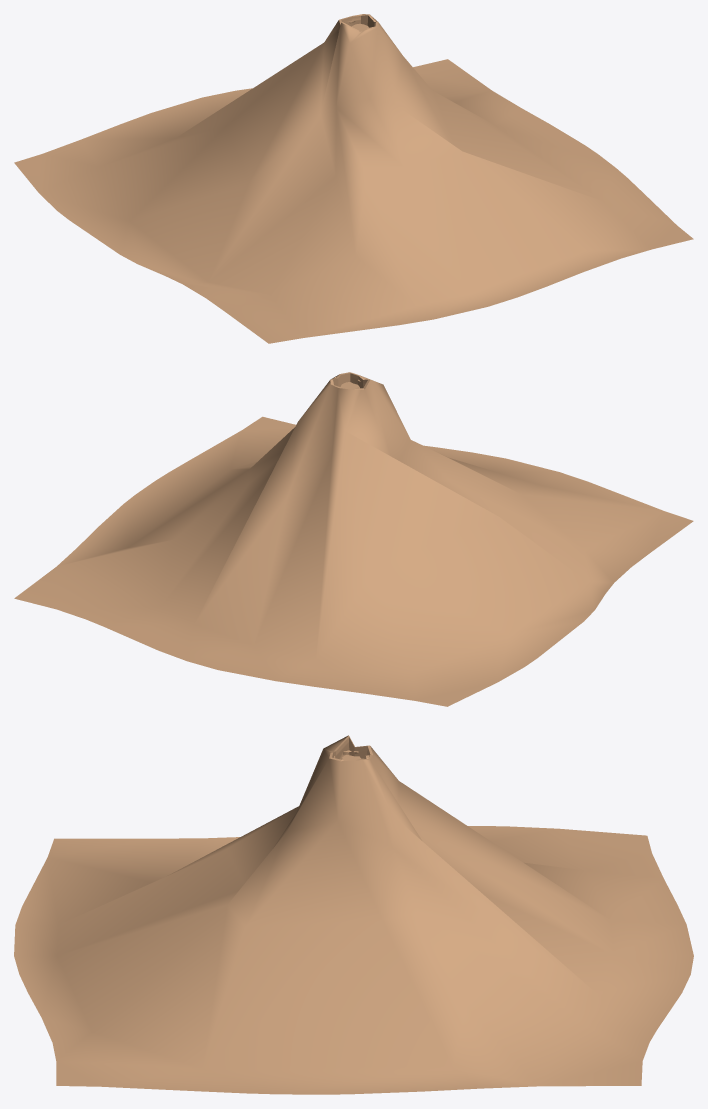
Rendered from Volcano_Edges_2.fbx.
3 renders of one model, top to bottom at view 1: azimuth 30°, elevation 25°; view 2: azimuth 150°, elevation 25°; view 3: azimuth 270°, elevation 25°, orthographic. The views are drawn at different scales.
Visible parts, largest first — view 1: pPlane1; view 2: pPlane1; view 3: pPlane1.
Part boxes in pixels (left/top/right/bottom): pPlane1: left=14, top=14, right=693, bottom=343; pPlane1: left=14, top=372, right=693, bottom=706; pPlane1: left=14, top=735, right=693, bottom=1094.
Bounding box in the file's own units: 937 × 361 × 1000.
